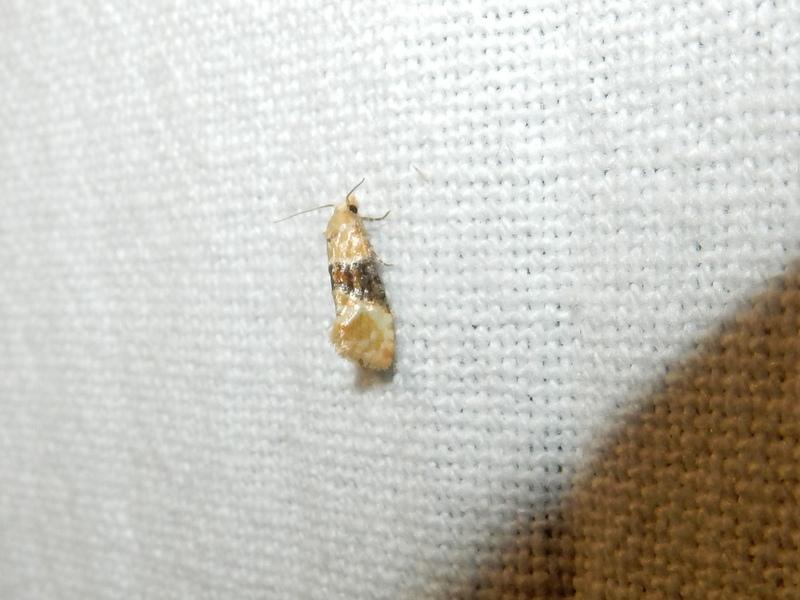Eupoecilia Ambiguella: (271, 175, 401, 380)
